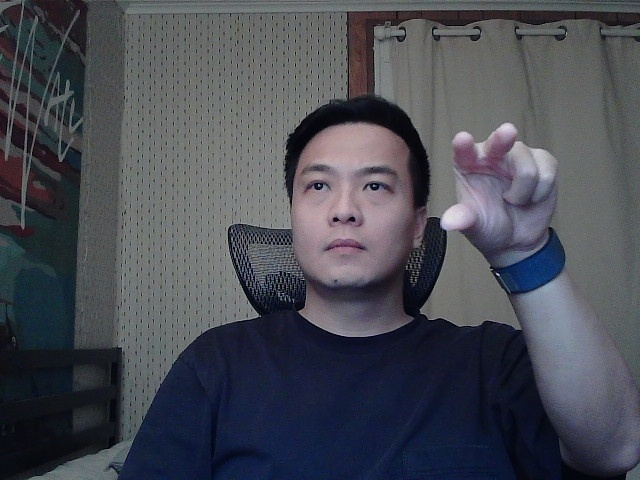No: (410, 107, 585, 267)
